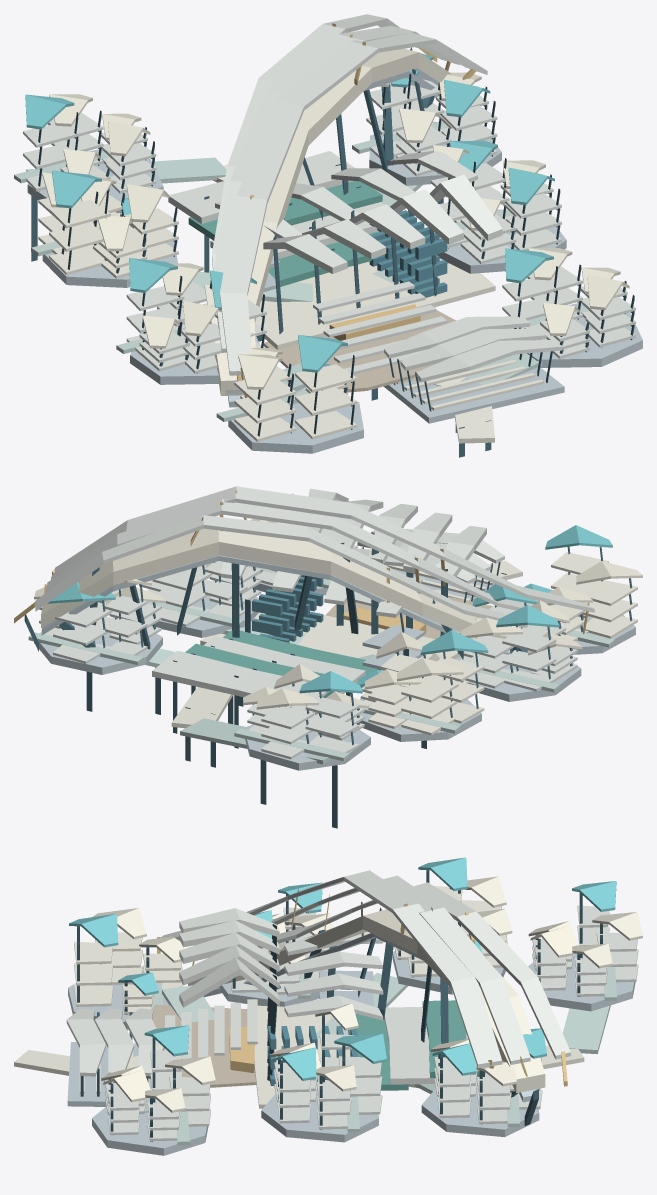
The model's file is J7R9_TENNU_URBAN_SEAM.glb.
3 renders of one model, top to bottom at view 1: azimuth 30°, elevation 25°; view 2: azimuth 150°, elevation 25°; view 3: azimuth 270°, elevation 25°, orthographic. The views are drawn at different scales.
Parts seen in each view (by area): view 1: CIVIC_KEEL_SKYLIGHT_ROOF_SLICE_0, CIVIC_SEAM_MEGACITY_UPPER_LIVED_IN_KEEL, ARCHIVE_PUBLIC_READING_HALL_FLOOR, CIVIC_KEEL_SKYLIGHT_ROOF_SLICE_1, CIVIC_KEEL_SKYLIGHT_ROOF_SLICE_2, TRANSIT_MAIN_INTERCHANGE_FLOOR, ASSEMBLY_REAL_FLOOR, WEST_SOUTH_URBAN_CITY_PODIUM, URBAN_TERRACE_GARDEN_3, TRANSIT_OPEN_CANOPY_0, TRANSIT_OPEN_CANOPY_2, TRANSIT_OPEN_CANOPY_1 (+69 smaller); view 2: CIVIC_SEAM_MEGACITY_UPPER_LIVED_IN_KEEL, CIVIC_KEEL_SKYLIGHT_ROOF_SLICE_0, CIVIC_KEEL_SKYLIGHT_ROOF_SLICE_2, CIVIC_KEEL_SKYLIGHT_ROOF_SLICE_1, URBAN_TERRACE_GARDEN_3, ARCHIVE_PUBLIC_READING_HALL_FLOOR, UPPER_KEEL_OCCUPIED_SERVICE_GALLERY_1, URBAN_TERRACE_GARDEN_1, EAST_GARDEN_URBAN_CITY_PODIUM, NORTH_PUBLIC_URBAN_CITY_PODIUM, URBAN_TERRACE_GARDEN_0, A_CIVIC_MAIN_BOULEVARD_SEG_4 (+62 smaller); view 3: CIVIC_KEEL_SKYLIGHT_ROOF_SLICE_0, CIVIC_KEEL_SKYLIGHT_ROOF_SLICE_1, CIVIC_KEEL_SKYLIGHT_ROOF_SLICE_2, CIVIC_SEAM_MEGACITY_UPPER_LIVED_IN_KEEL, URBAN_TERRACE_GARDEN_1, ARCHIVE_PUBLIC_READING_HALL_FLOOR, ASSEMBLY_REAL_FLOOR, EAST_TRANSIT_URBAN_CITY_PODIUM, EAST_PUBLIC_URBAN_CITY_PODIUM, EAST_GARDEN_URBAN_CITY_PODIUM, B_BRANCH_STREET_WEST_NORTH, TRANSIT_MAIN_INTERCHANGE_FLOOR (+75 smaller).
Part boxes in pixels (left/top/right/bottom): CIVIC_KEEL_SKYLIGHT_ROOF_SLICE_0: left=220, top=32, right=487, bottom=375; CIVIC_SEAM_MEGACITY_UPPER_LIVED_IN_KEEL: left=209, top=48, right=451, bottom=395; ARCHIVE_PUBLIC_READING_HALL_FLOOR: left=255, top=261, right=495, bottom=349; CIVIC_KEEL_SKYLIGHT_ROOF_SLICE_1: left=213, top=25, right=459, bottom=352; CIVIC_KEEL_SKYLIGHT_ROOF_SLICE_2: left=212, top=14, right=422, bottom=328; TRANSIT_MAIN_INTERCHANGE_FLOOR: left=383, top=367, right=564, bottom=423; ASSEMBLY_REAL_FLOOR: left=263, top=310, right=455, bottom=392; WEST_SOUTH_URBAN_CITY_PODIUM: left=228, top=389, right=363, bottom=453; URBAN_TERRACE_GARDEN_3: left=168, top=151, right=355, bottom=223; TRANSIT_OPEN_CANOPY_0: left=416, top=340, right=562, bottom=382; TRANSIT_OPEN_CANOPY_2: left=384, top=316, right=529, bottom=358; TRANSIT_OPEN_CANOPY_1: left=400, top=328, right=546, bottom=370; CIVIC_SEAM_MEGACITY_UPPER_LIVED_IN_KEEL: left=41, top=528, right=527, bottom=650; CIVIC_KEEL_SKYLIGHT_ROOF_SLICE_0: left=51, top=486, right=594, bottom=612; CIVIC_KEEL_SKYLIGHT_ROOF_SLICE_2: left=35, top=515, right=527, bottom=627; CIVIC_KEEL_SKYLIGHT_ROOF_SLICE_1: left=45, top=499, right=532, bottom=610; URBAN_TERRACE_GARDEN_3: left=152, top=650, right=327, bottom=697; ARCHIVE_PUBLIC_READING_HALL_FLOOR: left=200, top=612, right=460, bottom=687; UPPER_KEEL_OCCUPIED_SERVICE_GALLERY_1: left=41, top=555, right=510, bottom=654; URBAN_TERRACE_GARDEN_1: left=203, top=636, right=365, bottom=693; EAST_GARDEN_URBAN_CITY_PODIUM: left=34, top=617, right=162, bottom=674; NORTH_PUBLIC_URBAN_CITY_PODIUM: left=244, top=714, right=370, bottom=770; URBAN_TERRACE_GARDEN_0: left=223, top=630, right=380, bottom=687; A_CIVIC_MAIN_BOULEVARD_SEG_4: left=171, top=687, right=232, bottom=728; CIVIC_KEEL_SKYLIGHT_ROOF_SLICE_0: left=161, top=870, right=502, bottom=1068; CIVIC_KEEL_SKYLIGHT_ROOF_SLICE_1: left=271, top=875, right=530, bottom=1064; CIVIC_KEEL_SKYLIGHT_ROOF_SLICE_2: left=253, top=882, right=570, bottom=1059; CIVIC_SEAM_MEGACITY_UPPER_LIVED_IN_KEEL: left=188, top=909, right=545, bottom=1092; URBAN_TERRACE_GARDEN_1: left=384, top=1007, right=435, bottom=1084; ARCHIVE_PUBLIC_READING_HALL_FLOOR: left=254, top=1005, right=350, bottom=1108; ASSEMBLY_REAL_FLOOR: left=148, top=1004, right=256, bottom=1087; EAST_TRANSIT_URBAN_CITY_PODIUM: left=92, top=1097, right=208, bottom=1155; EAST_PUBLIC_URBAN_CITY_PODIUM: left=261, top=1083, right=378, bottom=1142; EAST_GARDEN_URBAN_CITY_PODIUM: left=421, top=1078, right=539, bottom=1137; B_BRANCH_STREET_WEST_NORTH: left=562, top=1005, right=610, bottom=1054; TRANSIT_MAIN_INTERCHANGE_FLOOR: left=67, top=1042, right=151, bottom=1106.
Bounding box in the file's own units: 2200 × 1087 × 2790.
